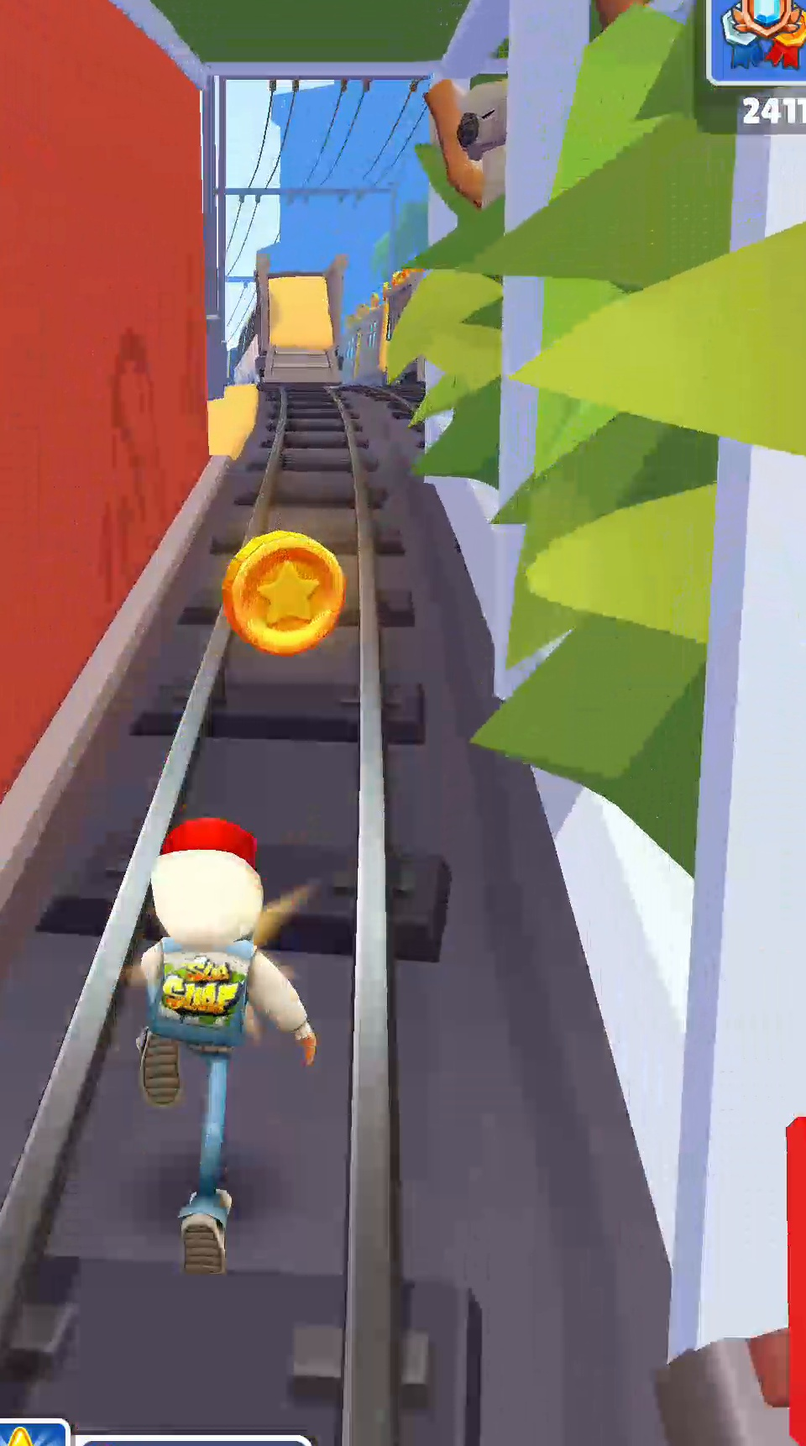block pillar: (390, 0, 805, 1357)
climber: (264, 275, 337, 384)
train: (343, 268, 423, 385)
